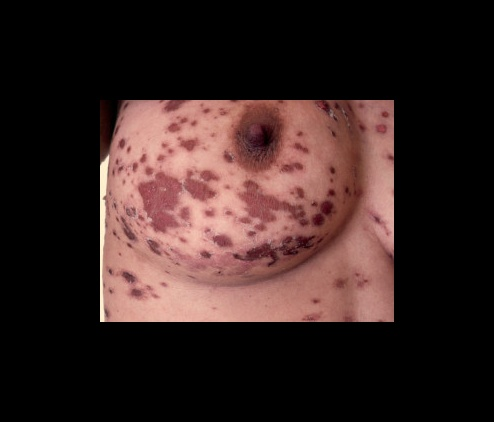SJS-TEN: (97, 95, 396, 323)
